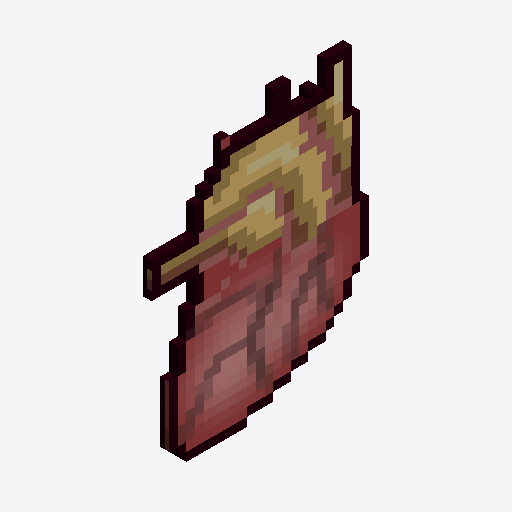
A Minecraft block model of 22 cuboids, rendered isometrically (azimuth 45°, elevation 35.3°) with the resource pack's own textures.
Parts seen in each view (by area): element 14, element 11, element 15, element 10, element 8, element 13, element 18, element 9, element 12, element 7, element 6, element 5 (+8 smaller).
Part boxes in pixels (bbox=[...]): element 14: bbox=[143, 141, 359, 300]; element 11: bbox=[178, 206, 368, 340]; element 15: bbox=[186, 106, 359, 235]; element 10: bbox=[169, 236, 368, 365]; element 8: bbox=[160, 276, 351, 400]; element 13: bbox=[186, 181, 359, 295]; element 18: bbox=[213, 75, 351, 169]; element 9: bbox=[169, 262, 359, 375]; element 12: bbox=[186, 191, 368, 305]; element 7: bbox=[160, 301, 342, 410]; element 6: bbox=[160, 317, 333, 420]; element 5: bbox=[160, 331, 325, 431].
Bounding box in the file's own units: 25 × 32 × 1.